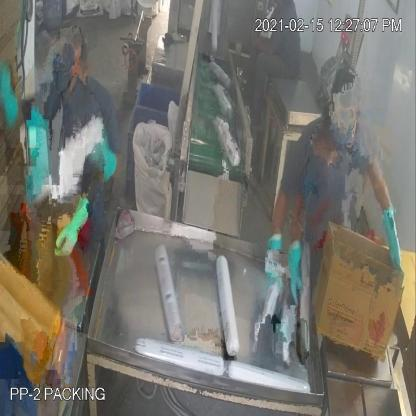glove: (50, 186, 96, 268), (379, 200, 407, 286), (288, 231, 304, 313)
no_glove: (248, 31, 278, 63)
